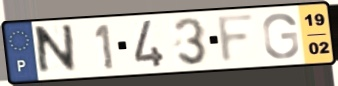1: (92, 22, 115, 71)
3: (171, 15, 210, 68)
4: (132, 18, 167, 70)
F: (215, 11, 258, 67)
G: (260, 11, 301, 61)
N: (35, 22, 79, 79)
